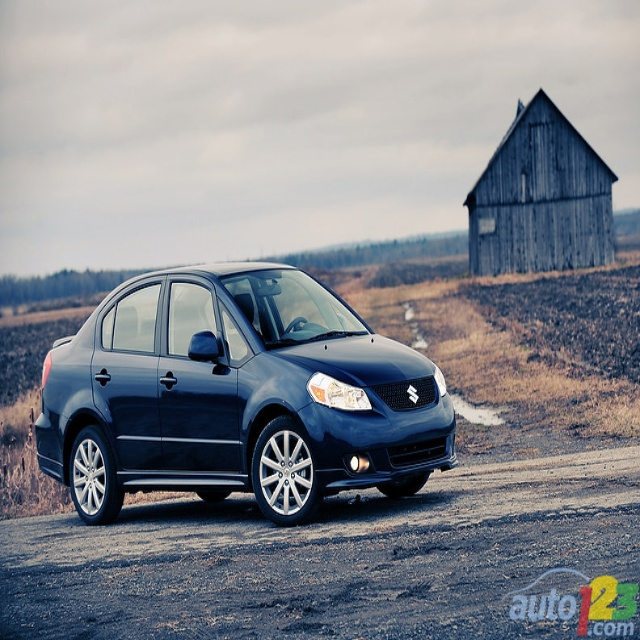Car: (34, 261, 458, 528)
